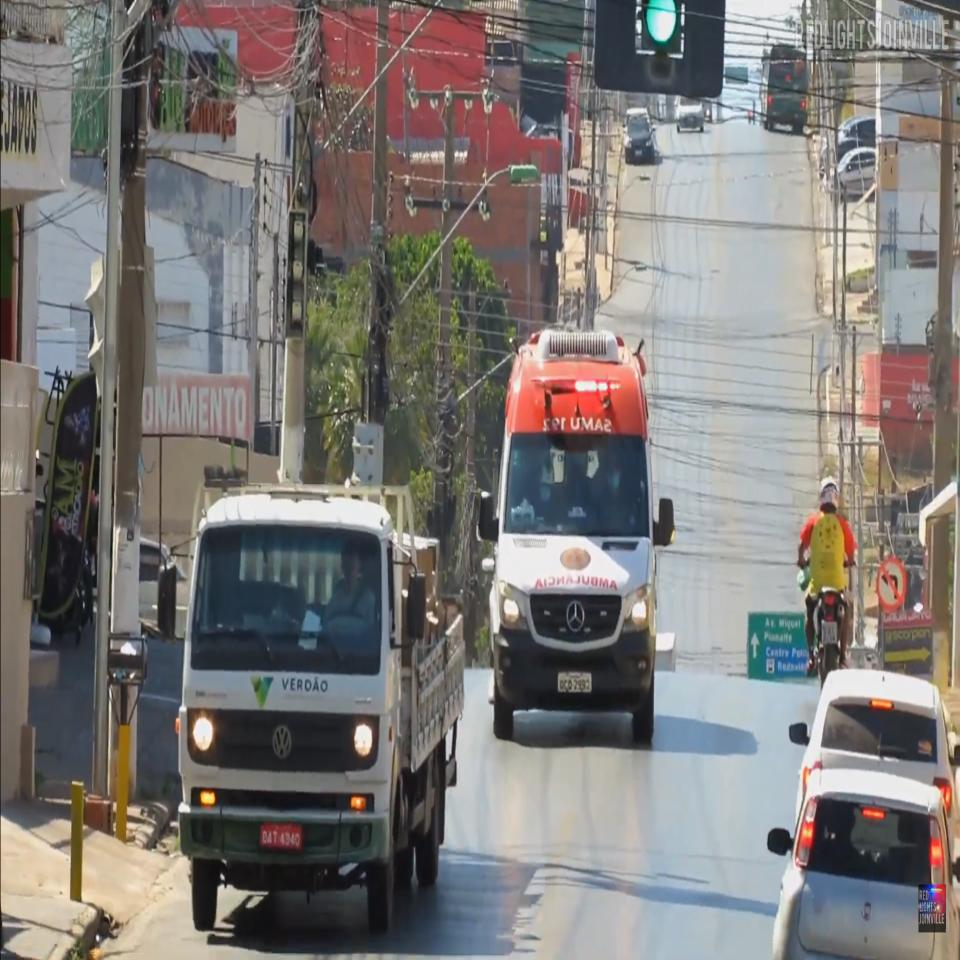bombeiro: (477, 322, 678, 746)
